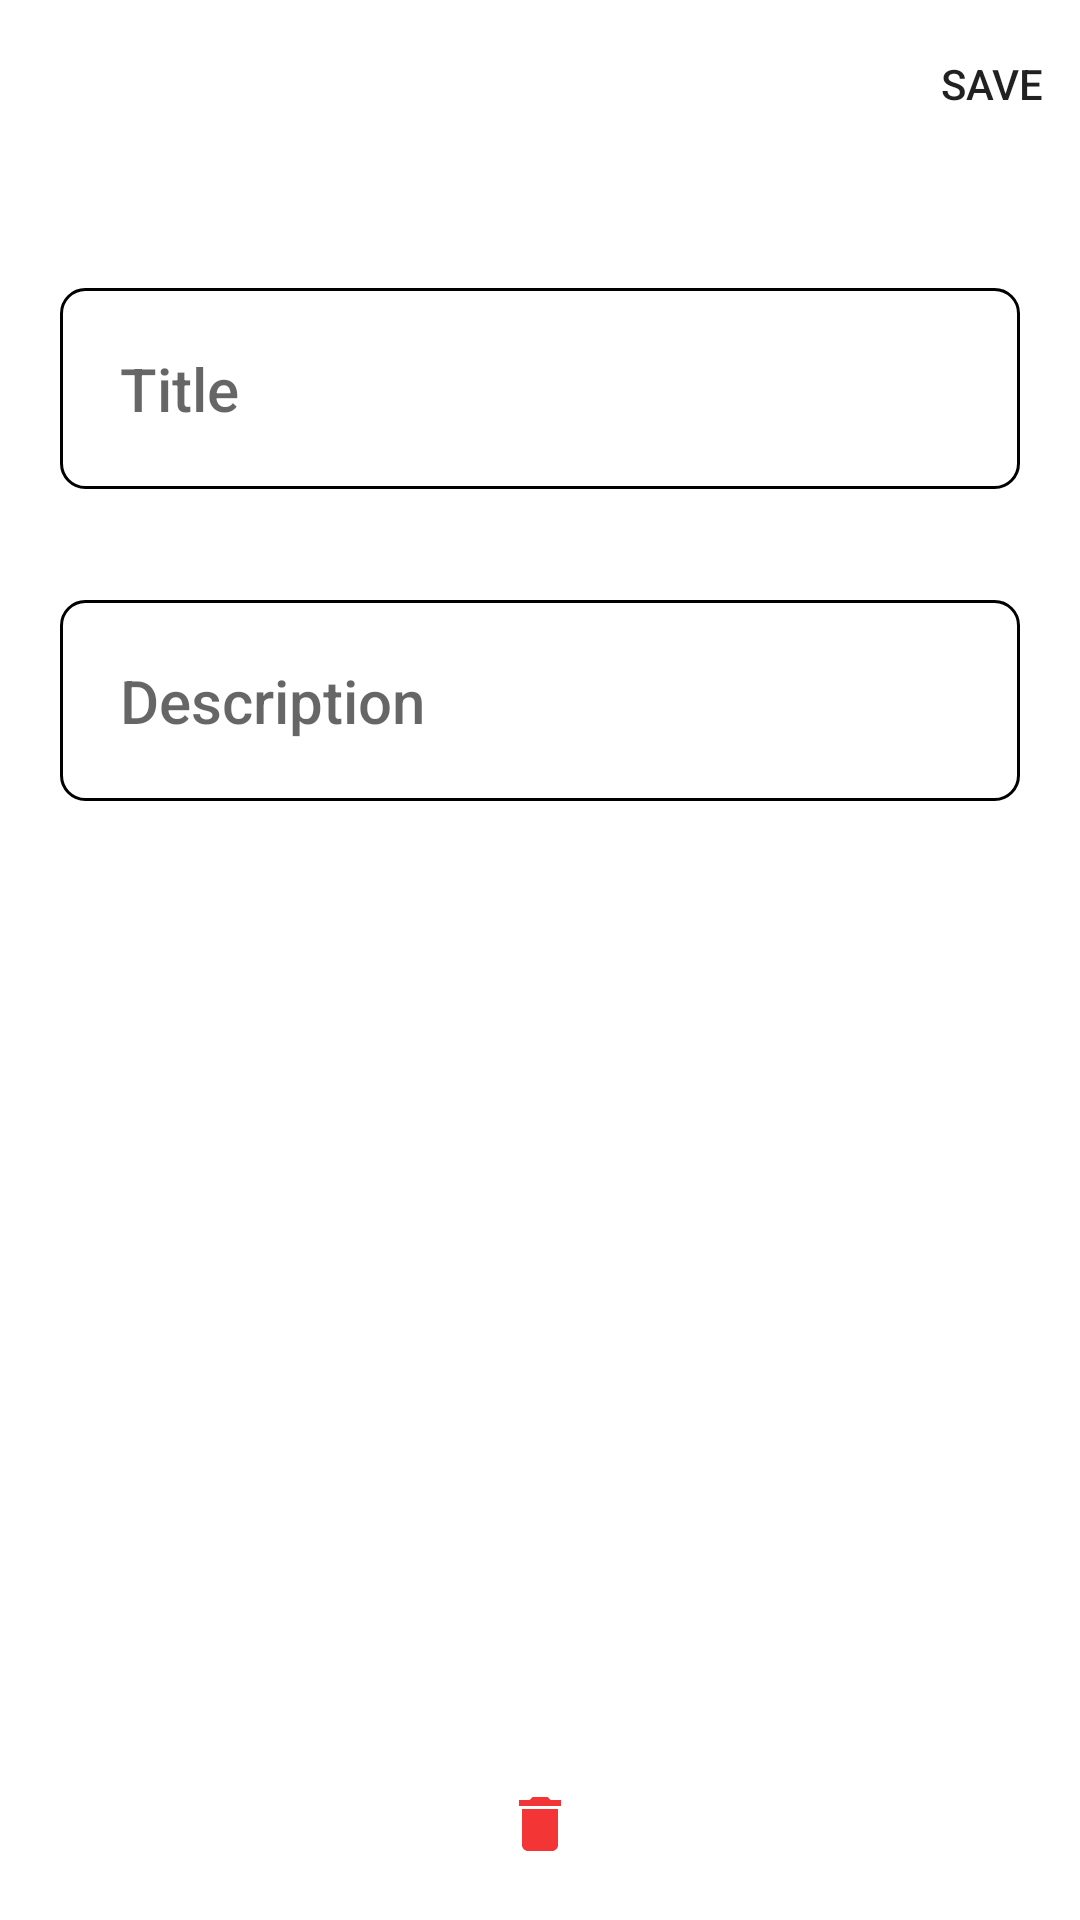

Icon click points for this 1080 x 1920 phone screenshot, format (x=x, y=y):
delete: (x=540, y=1824)
